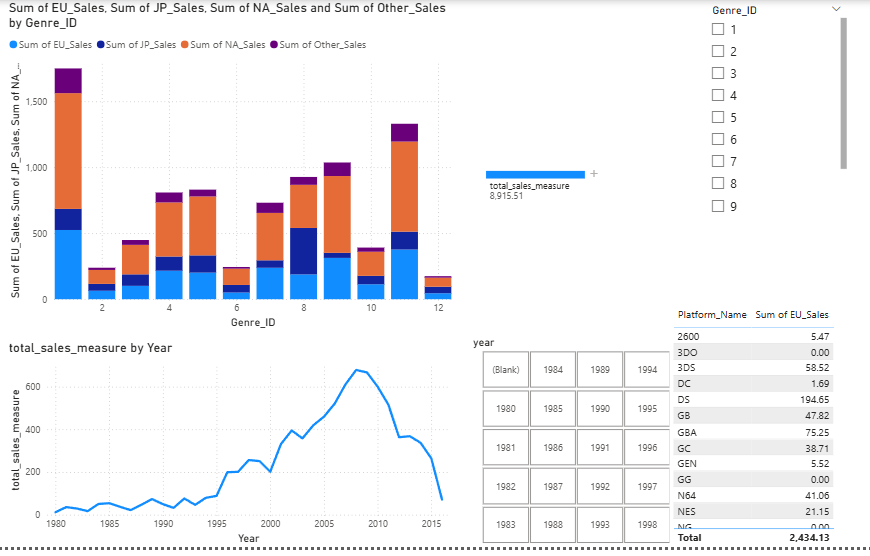

What the dashboard file says about the page in this screenshot:
{"tool":"powerbi","page":{"name":"Page 4","canvas":[1280,720],"ordinal":3},"visuals":[{"type":"columnChart","fields":{"Y":["Sum(sales.EU_Sales)","Sum(sales.JP_Sales)","Sum(sales.NA_Sales)","Sum(sales.Other_Sales)"],"Category":["sales.Genre_ID"]},"box":[10.4,0,592.6,437.2],"z":0},{"type":"lineChart","fields":{"Category":["sales.Publish_Year.Variation.Date Hierarchy.Year"],"Y":["sales.total_sales_measure"]},"box":[10,447,593,273],"z":1000},{"type":"decompositionTreeVisual","fields":{"Analyze":["sales.total_sales_measure"],"ExplainBy":["genres.Genre"]},"box":[613.3,0,244.5,437.2],"z":2000},{"type":"slicer","fields":{"Values":["sales.year"]},"box":[613.3,437.2,296.3,283.9],"z":3000},{"type":"slicer","fields":{"Values":["genres.Genre_ID"]},"box":[928.2,0,194.8,292.1],"z":4000},{"type":"tableEx","fields":{"Values":["platforms.Platform_Name","Sum(sales.EU_Sales)"]},"box":[884.7,397.8,395.7,323.2],"z":5000}]}

Visuals, with their boxes on the page's 1280x720 design canvas (x1, y1, x2, y2). These are canvas units, not pixel positions in the 870x556 screenshot, which may show the page scaled, cropped or inside an application window:
columnChart - Sum(sales.EU_Sales) x Sum(sales.JP_Sales): [10, 0, 603, 437]
lineChart - sales.Publish_Year.Variation.Date Hierarchy.Year x sales.total_sales_measure: [10, 447, 603, 720]
decompositionTreeVisual - sales.total_sales_measure x genres.Genre: [613, 0, 858, 437]
slicer - sales.year: [613, 437, 910, 721]
slicer - genres.Genre_ID: [928, 0, 1123, 292]
tableEx - platforms.Platform_Name x Sum(sales.EU_Sales): [885, 398, 1280, 721]
